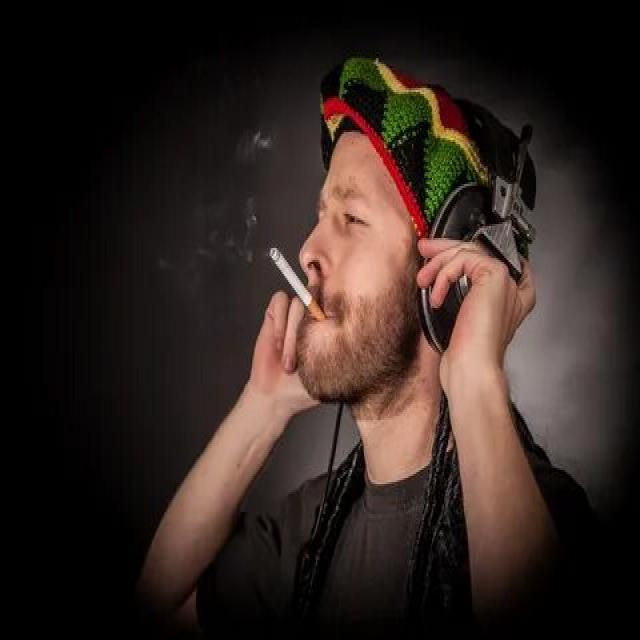smoke: (267, 240, 328, 324)
